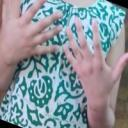hand: (63, 14, 128, 102), (0, 0, 62, 64)
